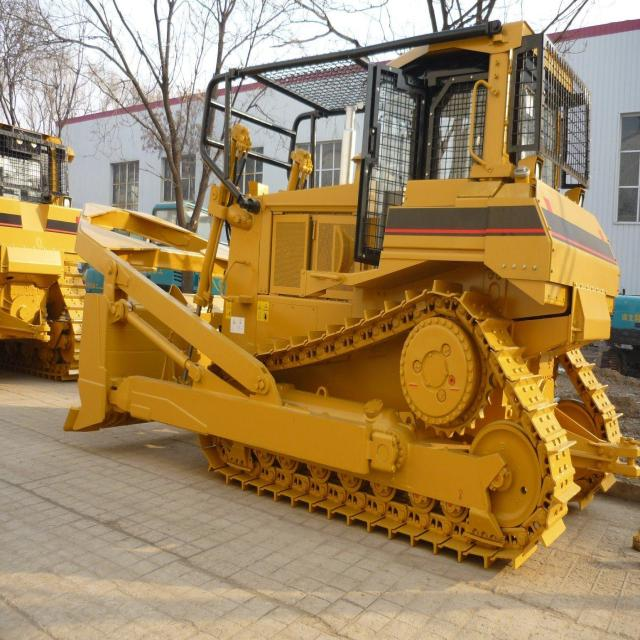buldozerpayloadergrader: (40, 17, 633, 580)
